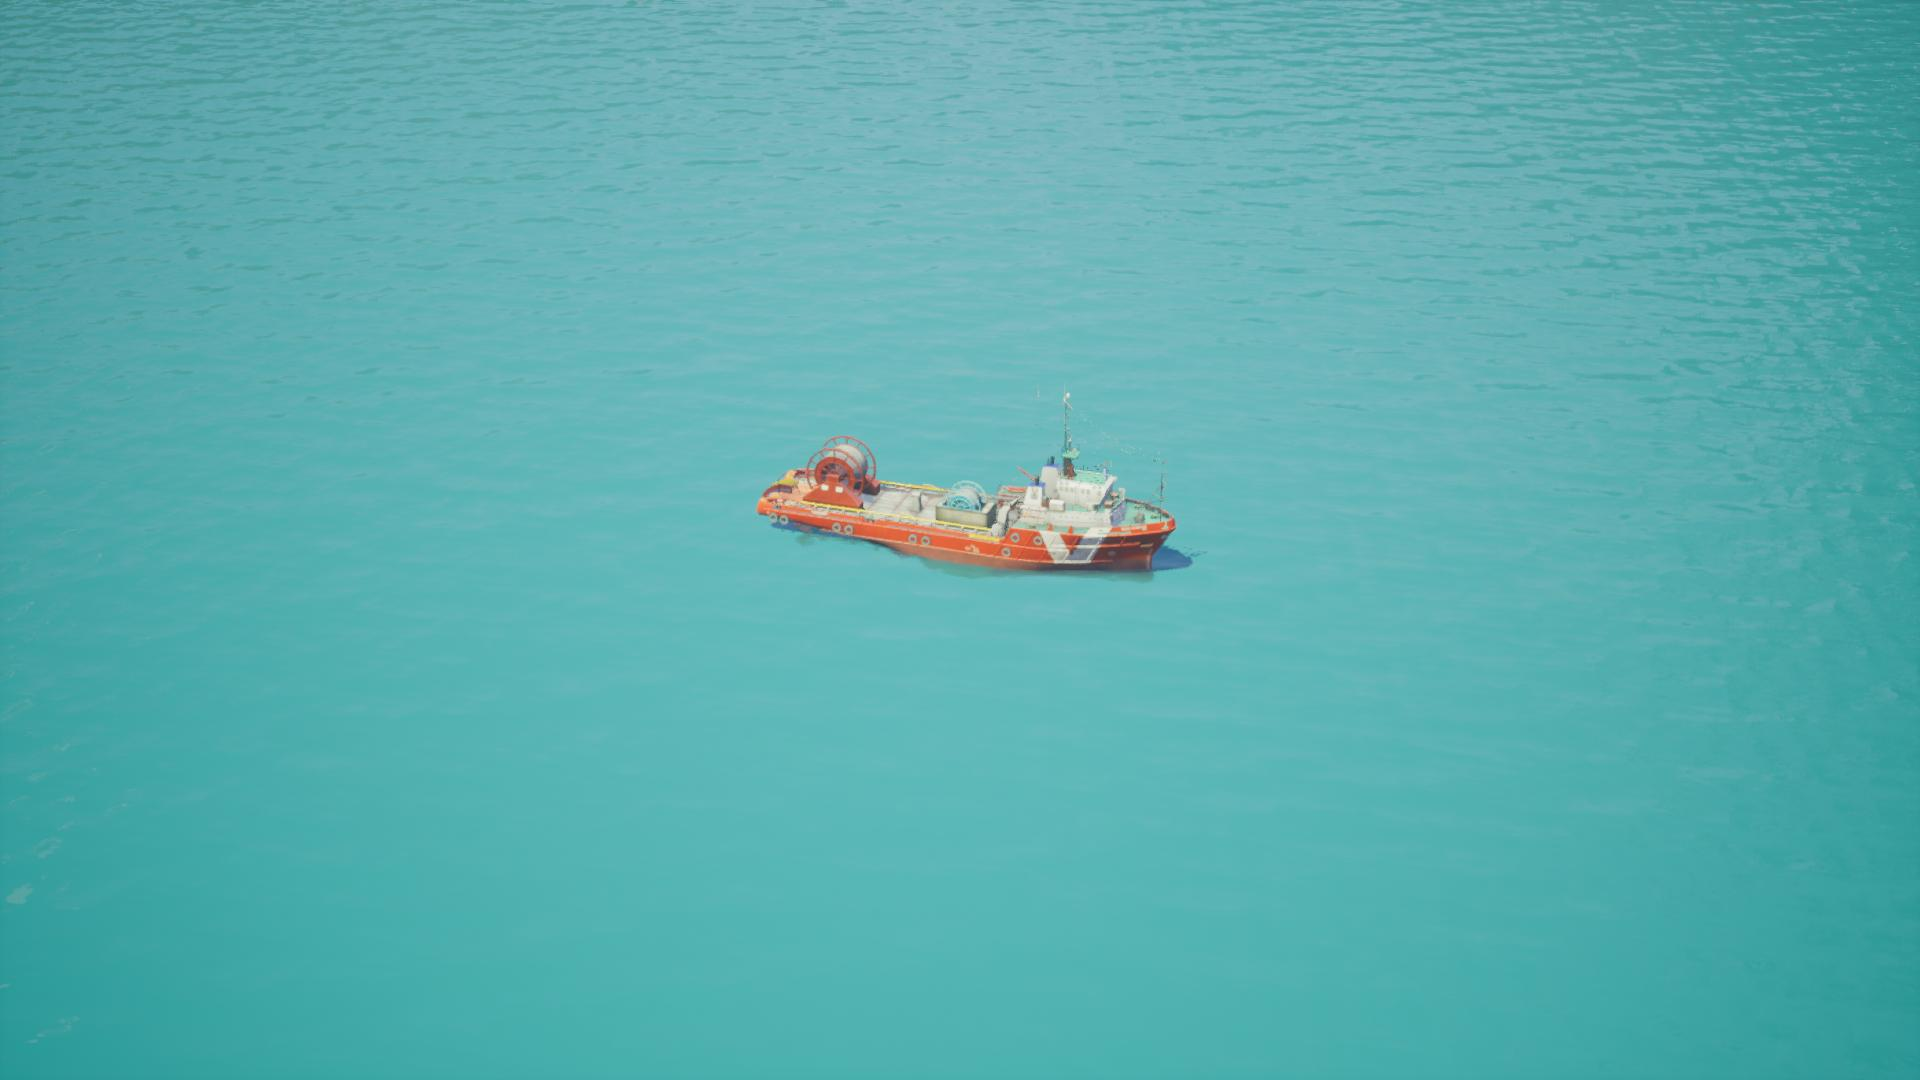Tug Boat: (760, 377, 1155, 657)
